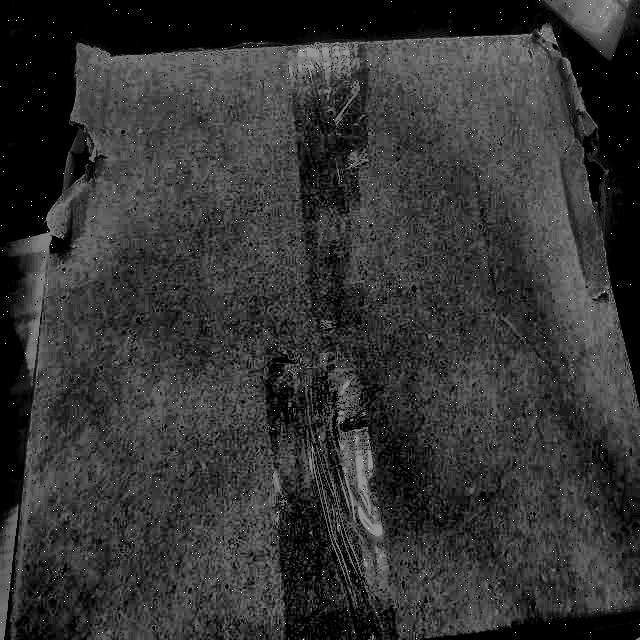box: (0, 16, 639, 639)
hole: (579, 124, 606, 230), (66, 135, 101, 196)
